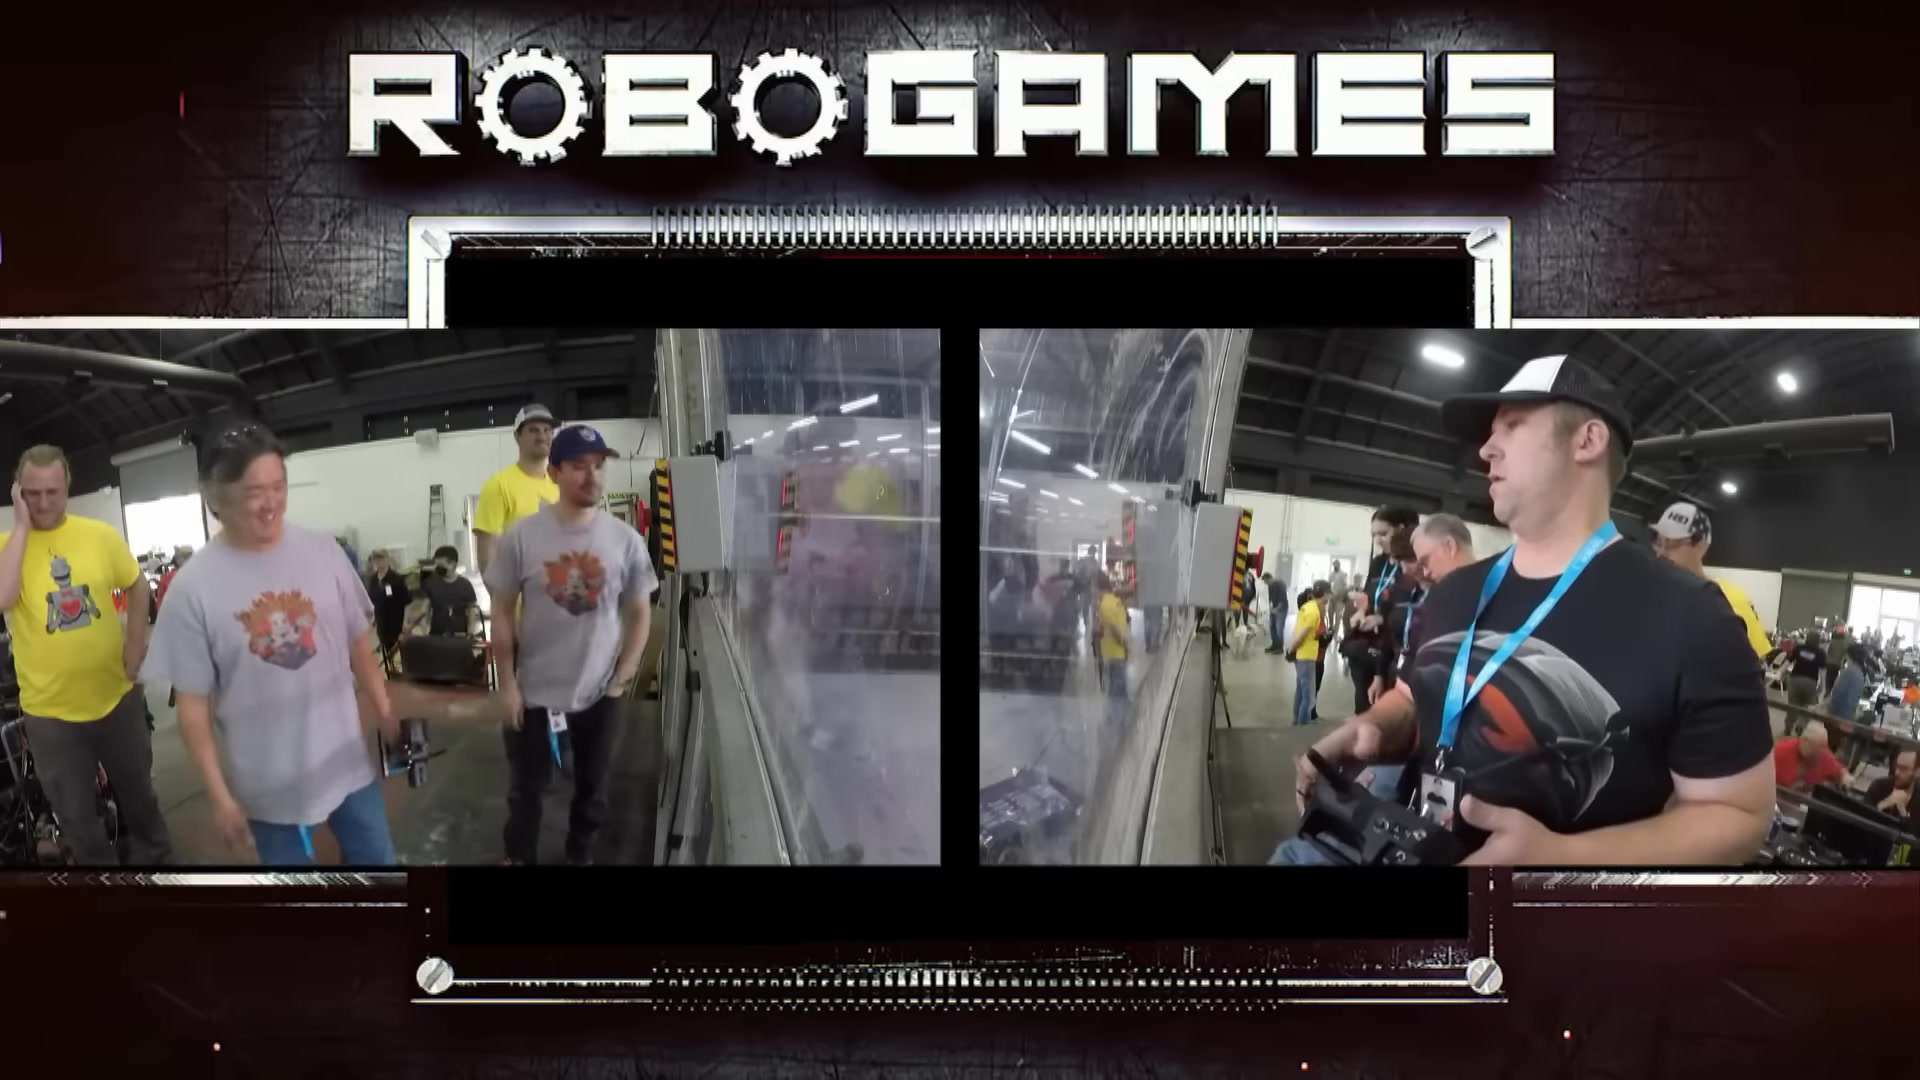combatbot: (975, 765, 1091, 856)
